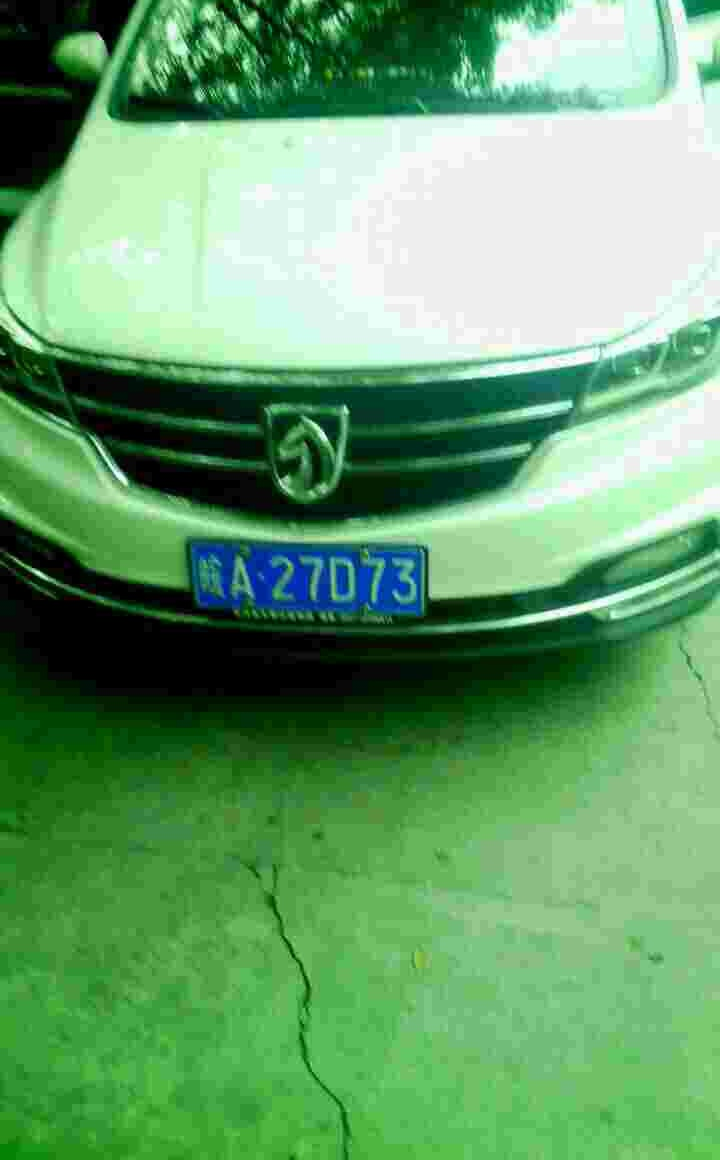plate: (191, 539, 430, 618)
